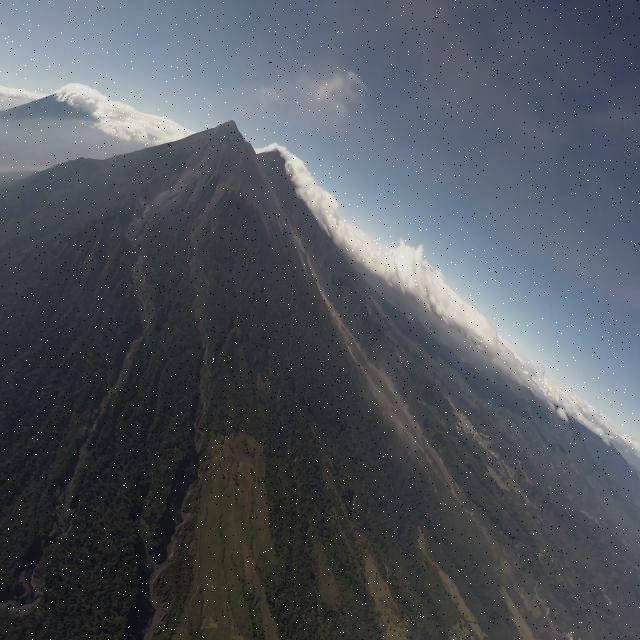Summit: (216, 116, 246, 136)
